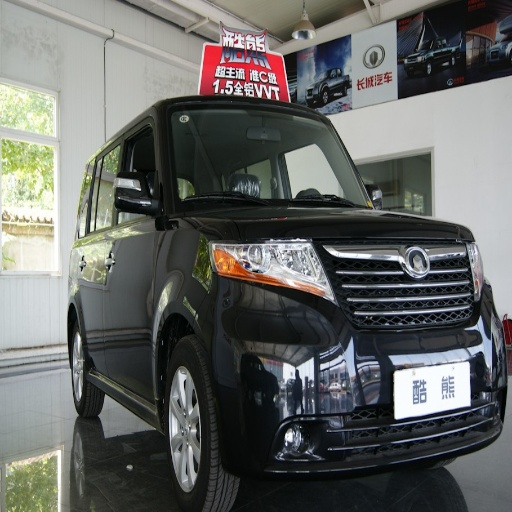front_bumper: (240, 240, 507, 469)
front_right_door: (105, 120, 167, 388)
front_right_light: (210, 241, 331, 296)
